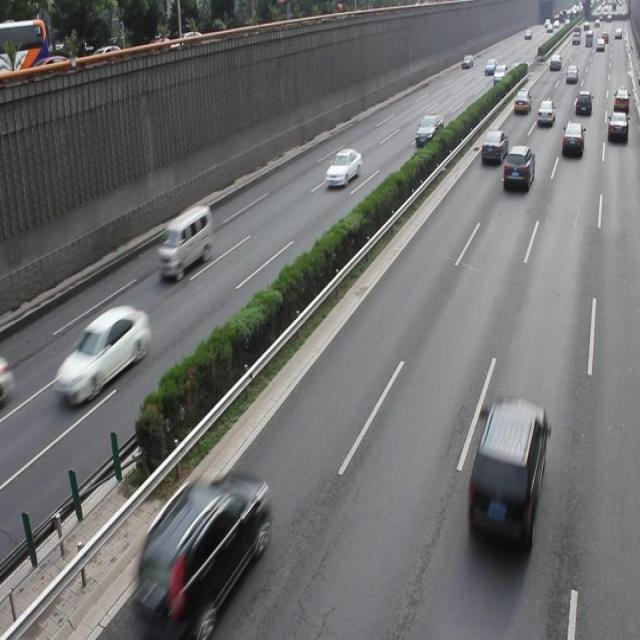car: (136, 470, 268, 629), (465, 396, 547, 546), (58, 304, 150, 406), (323, 147, 361, 190), (502, 143, 535, 191)
truck: (157, 204, 212, 280)
